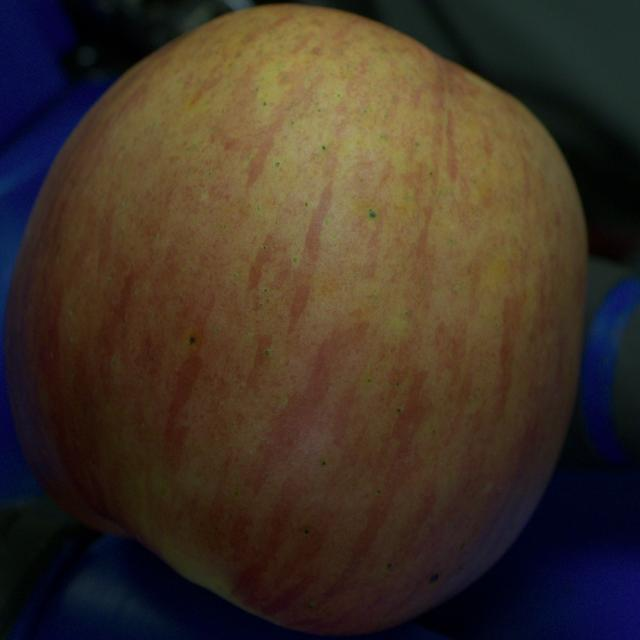apple: (6, 5, 587, 632)
pest: (429, 574, 439, 582), (369, 211, 376, 218), (189, 337, 195, 343)
